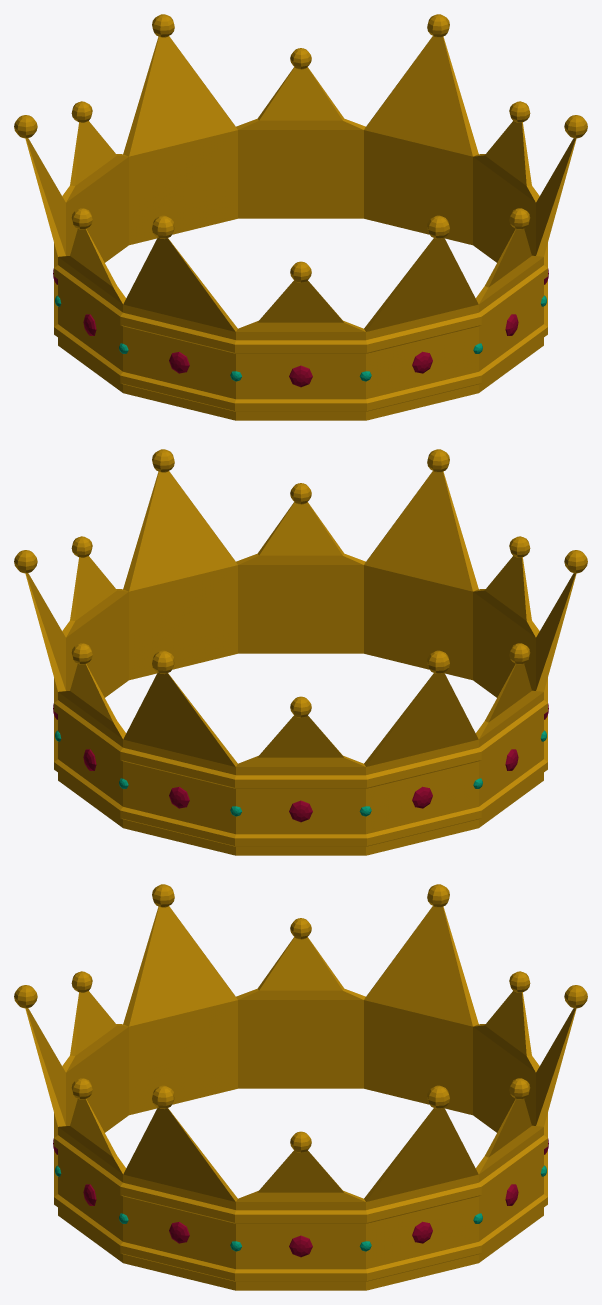
Rendered from golden_crown.glb.
3 views of the same model, one above another, from view 1: azimuth 30°, elevation 25°; view 2: azimuth 150°, elevation 25°; view 3: azimuth 270°, elevation 25° (orthographic).
Parts seen in each view (by area): view 1: Object_5, Object_6; view 2: Object_5, Object_6; view 3: Object_5, Object_6.
Boxes of the visible parts, bbox=[...] form: Object_5: bbox=[14, 14, 587, 420]; Object_6: bbox=[53, 268, 548, 387]; Object_5: bbox=[14, 449, 587, 855]; Object_6: bbox=[53, 703, 548, 822]; Object_5: bbox=[14, 884, 587, 1290]; Object_6: bbox=[53, 1138, 548, 1257].
Bounding box in the file's own units: 2.17 × 0.9165 × 2.36.
